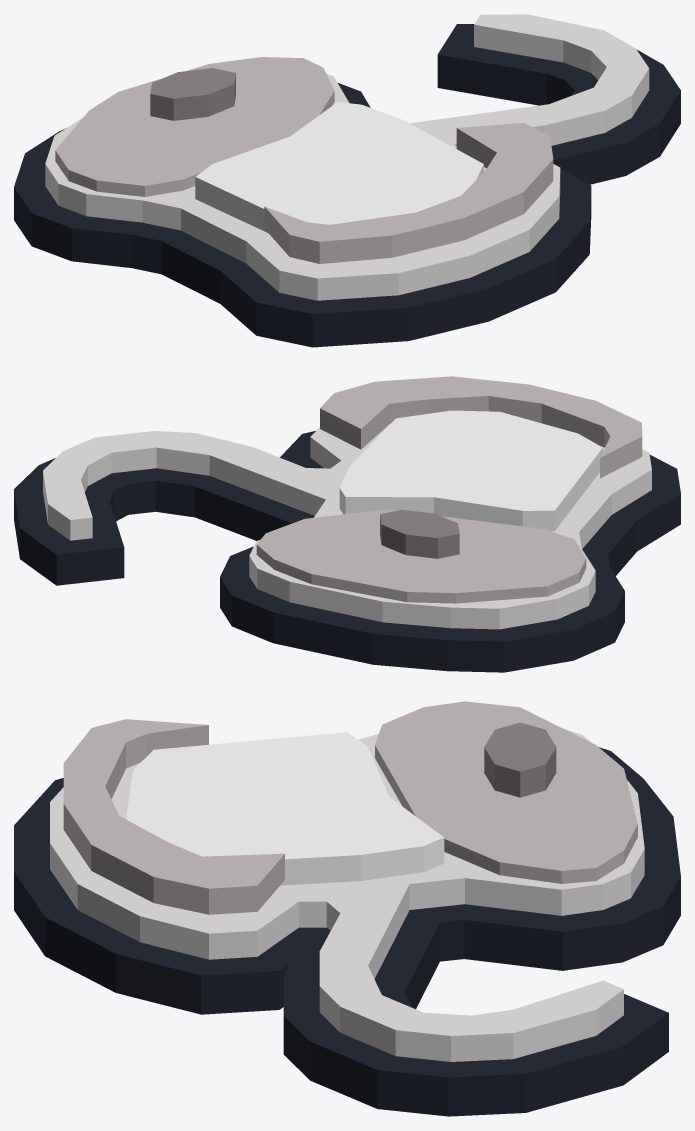
Rendered from thread.fbx.
3 renders of one model, top to bottom at view 1: azimuth 30°, elevation 25°; view 2: azimuth 150°, elevation 25°; view 3: azimuth 270°, elevation 25°, orthographic. The views are drawn at different scales.
Visible parts, largest first — view 1: thread; view 2: thread; view 3: thread.
Part boxes in pixels (<box>): thread: <box>14,14,680,347</box>; thread: <box>14,376,680,672</box>; thread: <box>14,701,680,1116</box>.
Size of the model in its own units: 1.18 by 0.18 by 0.9272.
Materials: 1 (1 with a texture image).
